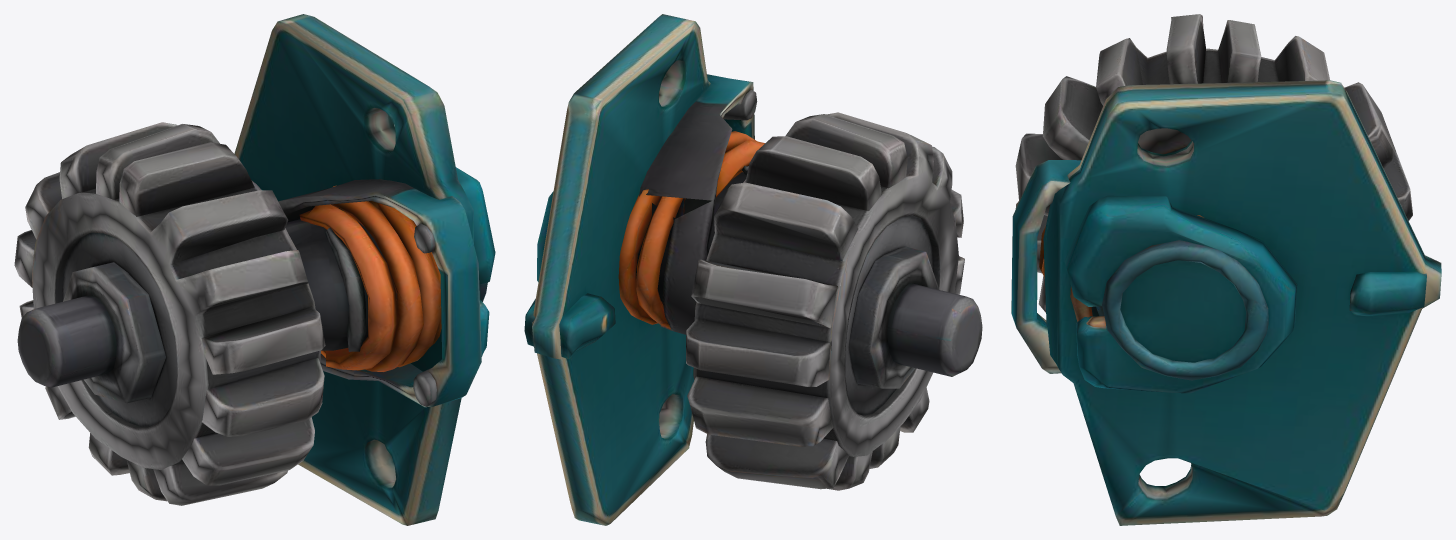
Rendered from mechanical-parts.glb.
3 renders of one model, left to right at view 1: azimuth 30°, elevation 25°; view 2: azimuth 150°, elevation 25°; view 3: azimuth 270°, elevation 25°, orthographic.
Visible parts, largest first — view 1: mechanical-parts; view 2: mechanical-parts; view 3: mechanical-parts.
Boxes of the visible parts, box(x1,y1,x2,y2) form: mechanical-parts: box(14, 14, 495, 525); mechanical-parts: box(524, 14, 982, 525); mechanical-parts: box(1011, 14, 1441, 525).
Size of the model in its own units: 0.2176 by 0.22 by 0.2024.
1 material, 1 textured.
